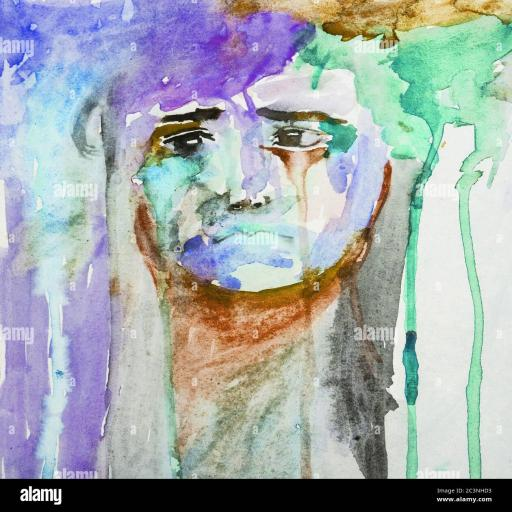person: (136, 43, 396, 334)
